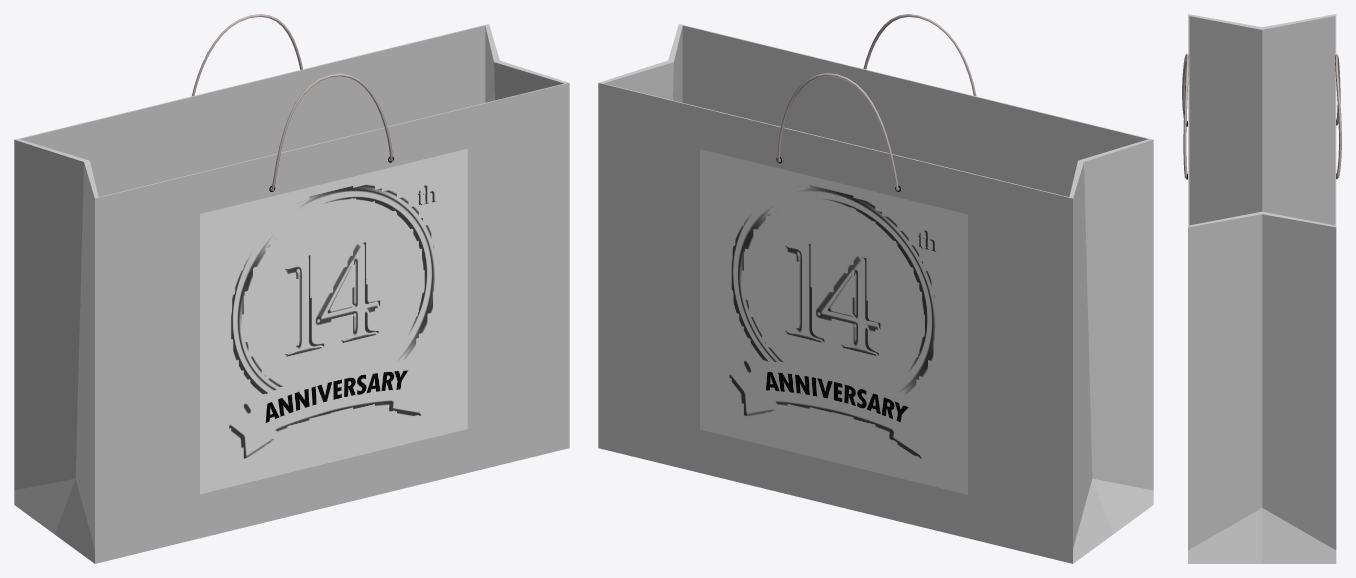
The model's file is NewBagHorizontal.fbx.
3 views of the same model, side by side, from view 1: azimuth 30°, elevation 25°; view 2: azimuth 150°, elevation 25°; view 3: azimuth 270°, elevation 25° (orthographic). The views are drawn at different scales.
Visible parts, largest first — view 1: Cube; view 2: Cube; view 3: Cube.
Boxes of the visible parts, box(x1,y1,x2,y2) form: Cube: box(14, 14, 569, 563); Cube: box(598, 14, 1153, 563); Cube: box(1182, 14, 1341, 563).
Bounding box in the file's own units: 340 × 296 × 108.
